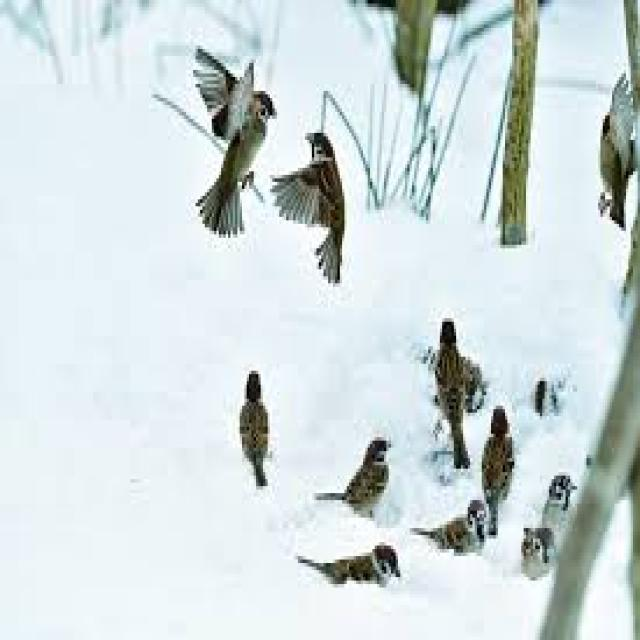bird: (193, 46, 270, 249), (269, 133, 348, 291)
